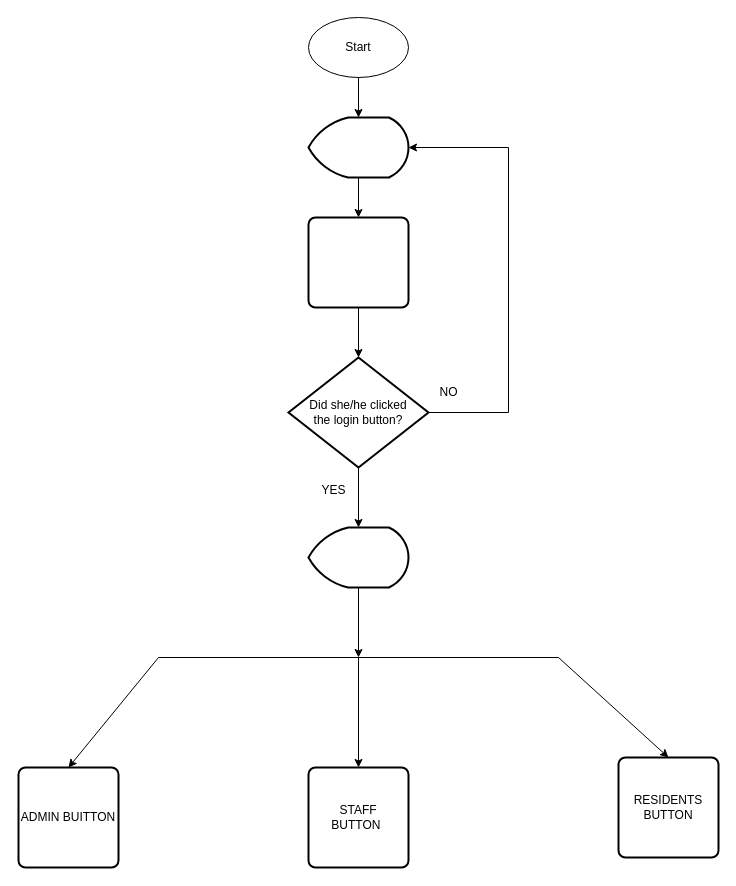
The diagram is 736 pixels wide and 886 high, and some of its shapes have lost their labels. The shapes that lost their labels are listed below. From the top down, each one's box as (x1, y1, x2, y2) in pixels, then its label:
(307, 116, 409, 178): Landing Page
(307, 216, 409, 308): Login Button
(307, 526, 409, 588): Login Page
